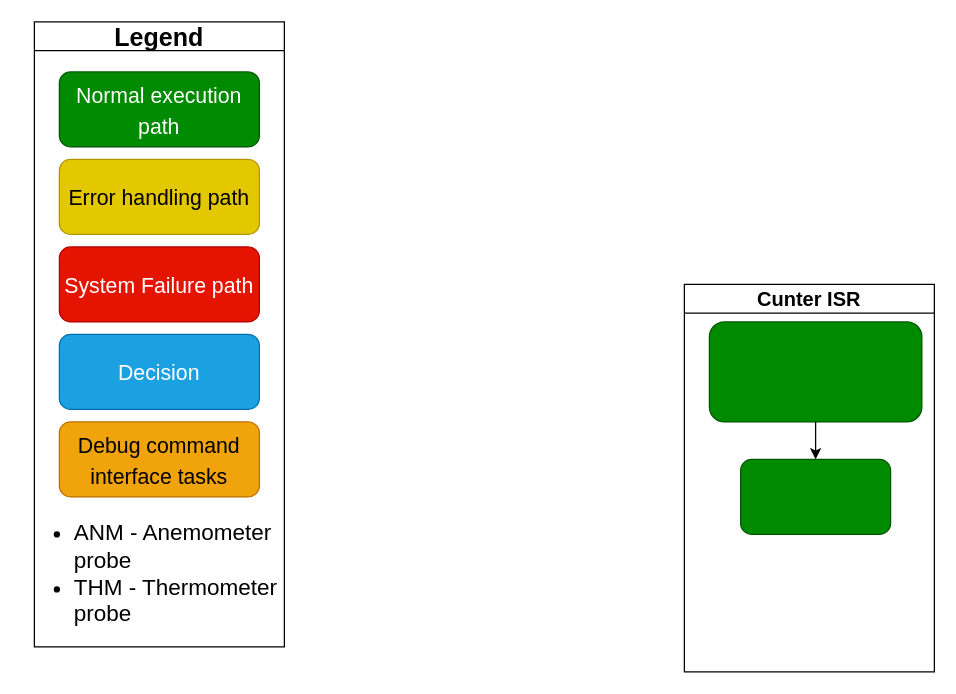
The diagram is 956 pixels wide and 694 high, and some of its shapes have lost their labels. The centre of each missing label's shape, as x and y in pixels:
Read ticks between falling edges of input signal.: pixel 815 371
Sa: pixel 815 496
